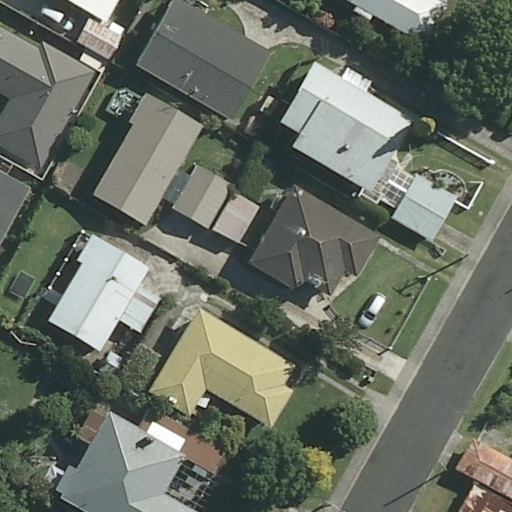DT: (430, 454, 450, 481), (457, 245, 477, 265)
